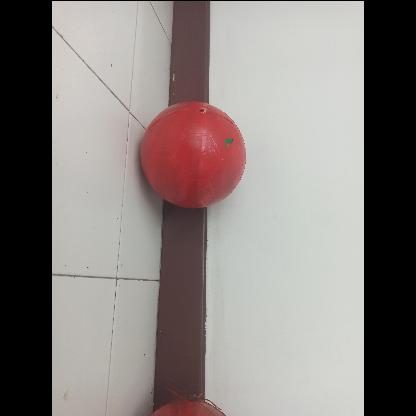red_ball: (142, 102, 246, 208)
